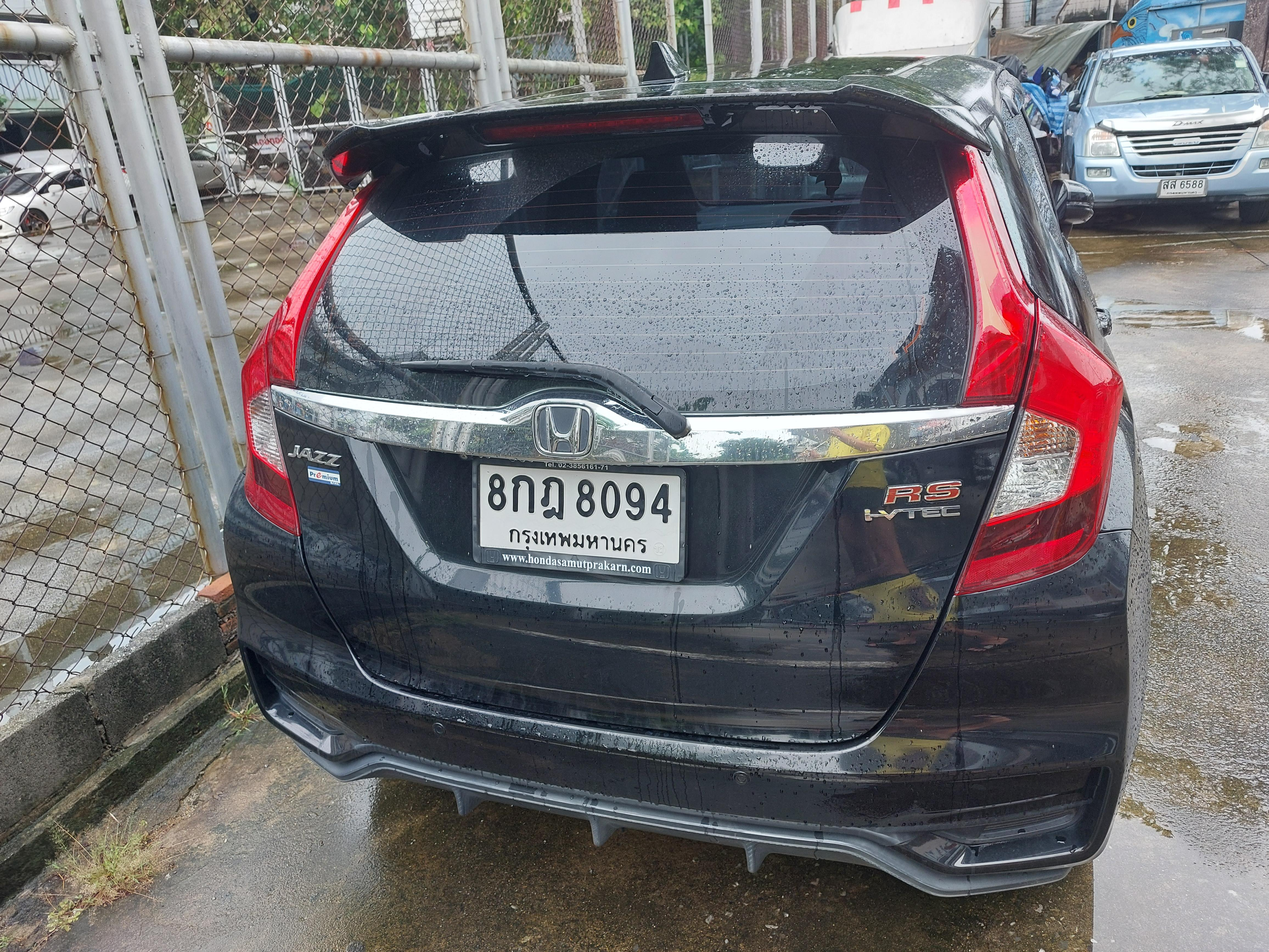license-plate: (470, 456, 688, 585), (1159, 176, 1211, 199)
